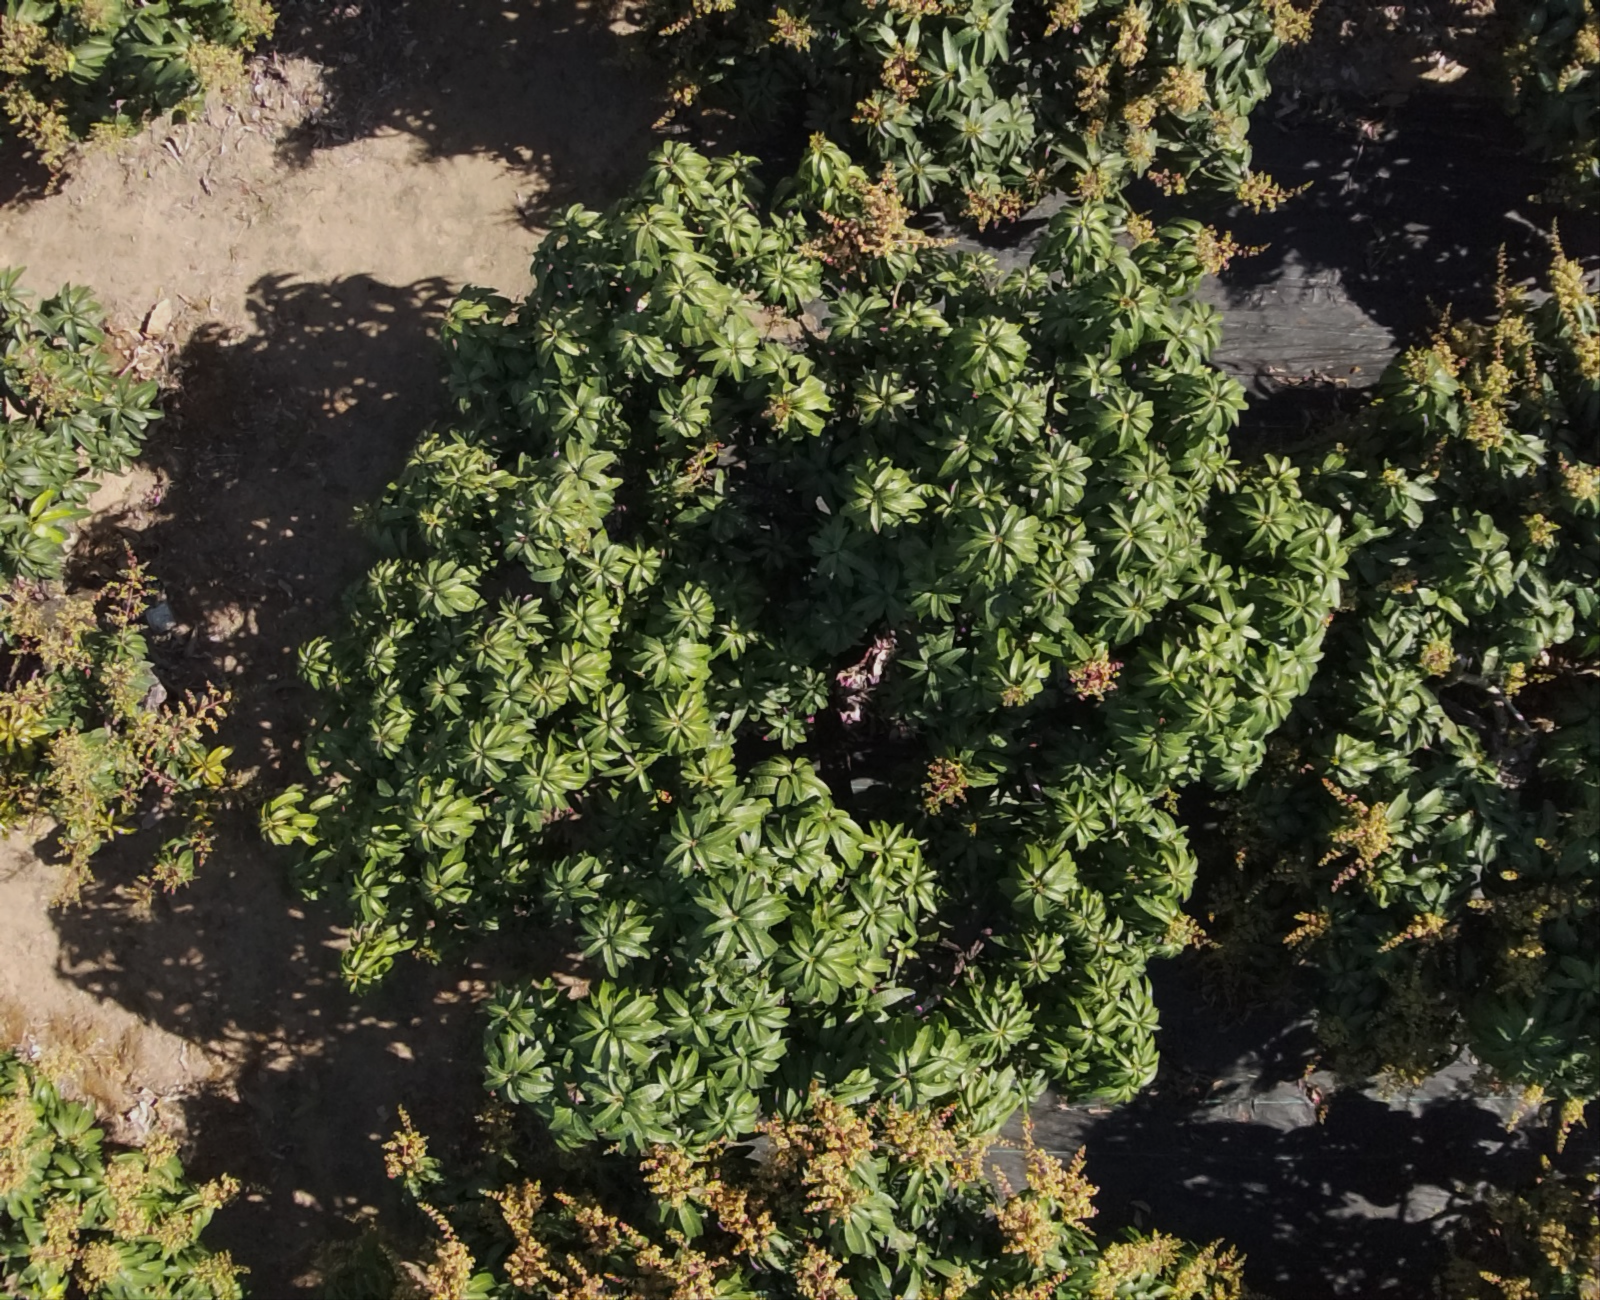flowers: (0, 554, 233, 895), (764, 1081, 984, 1218), (484, 1179, 720, 1299), (1398, 291, 1540, 450), (1317, 948, 1458, 1081), (1469, 869, 1599, 994), (800, 172, 951, 275), (639, 1145, 776, 1256), (0, 1197, 122, 1299), (1087, 1232, 1242, 1299), (182, 0, 277, 94), (1538, 1158, 1599, 1299), (1319, 777, 1390, 891), (103, 1132, 180, 1238), (0, 77, 76, 184), (1548, 222, 1599, 379), (413, 1201, 474, 1299), (0, 338, 77, 414), (1122, 65, 1206, 127), (0, 11, 74, 78), (0, 1069, 37, 1195), (382, 1106, 440, 1186), (1558, 0, 1599, 92), (792, 1240, 856, 1299), (1194, 226, 1268, 275), (881, 42, 923, 111), (1457, 1264, 1542, 1299), (658, 0, 736, 36), (1378, 913, 1449, 952), (1068, 647, 1122, 698), (191, 1250, 245, 1299), (1260, 0, 1321, 42), (923, 757, 968, 814), (962, 188, 1024, 229), (1076, 62, 1110, 137), (918, 1259, 976, 1299), (1236, 168, 1290, 211), (1113, 3, 1148, 66), (768, 5, 815, 50), (862, 0, 972, 19), (1162, 913, 1214, 951), (1559, 452, 1599, 500), (1044, 0, 1097, 36), (994, 1272, 1065, 1299), (1503, 1084, 1543, 1132), (60, 0, 119, 31), (231, 0, 277, 38), (1282, 911, 1331, 947), (862, 0, 955, 19), (1556, 1097, 1585, 1151), (198, 1174, 241, 1208), (1124, 126, 1156, 172), (1420, 637, 1455, 675), (1075, 164, 1112, 198), (1523, 513, 1559, 547), (1124, 211, 1154, 244), (1148, 168, 1186, 194), (1380, 566, 1416, 592), (1451, 0, 1495, 15), (1381, 464, 1408, 486), (145, 1281, 172, 1299)
